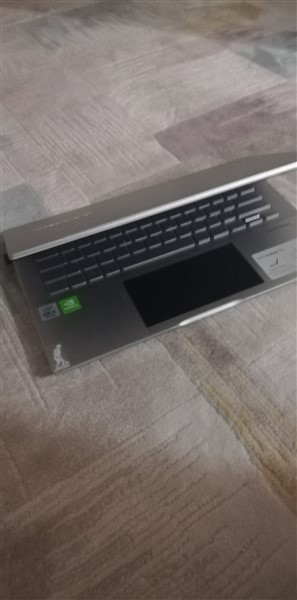laptop: (6, 146, 297, 371)
